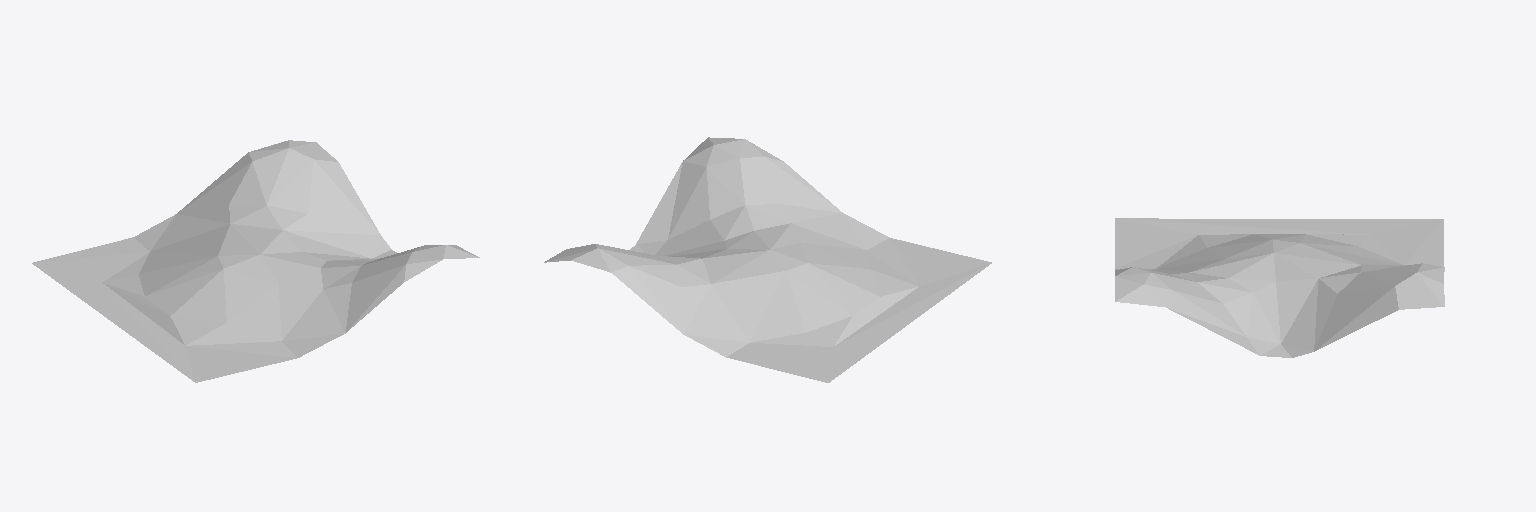
File: TerrainIntroLowPoly.obj
3 views of the same model, side by side, from view 1: azimuth 30°, elevation 25°; view 2: azimuth 150°, elevation 25°; view 3: azimuth 270°, elevation 25° (orthographic).
Visible parts, largest first — view 1: TerrainIntro.001; view 2: TerrainIntro.001; view 3: TerrainIntro.001.
Part boxes in pixels (x1,y1,x2,y2): TerrainIntro.001: (32, 140, 479, 382); TerrainIntro.001: (544, 137, 991, 382); TerrainIntro.001: (1115, 218, 1444, 357).
Bounding box in the file's own units: 100 × 22.2 × 100.